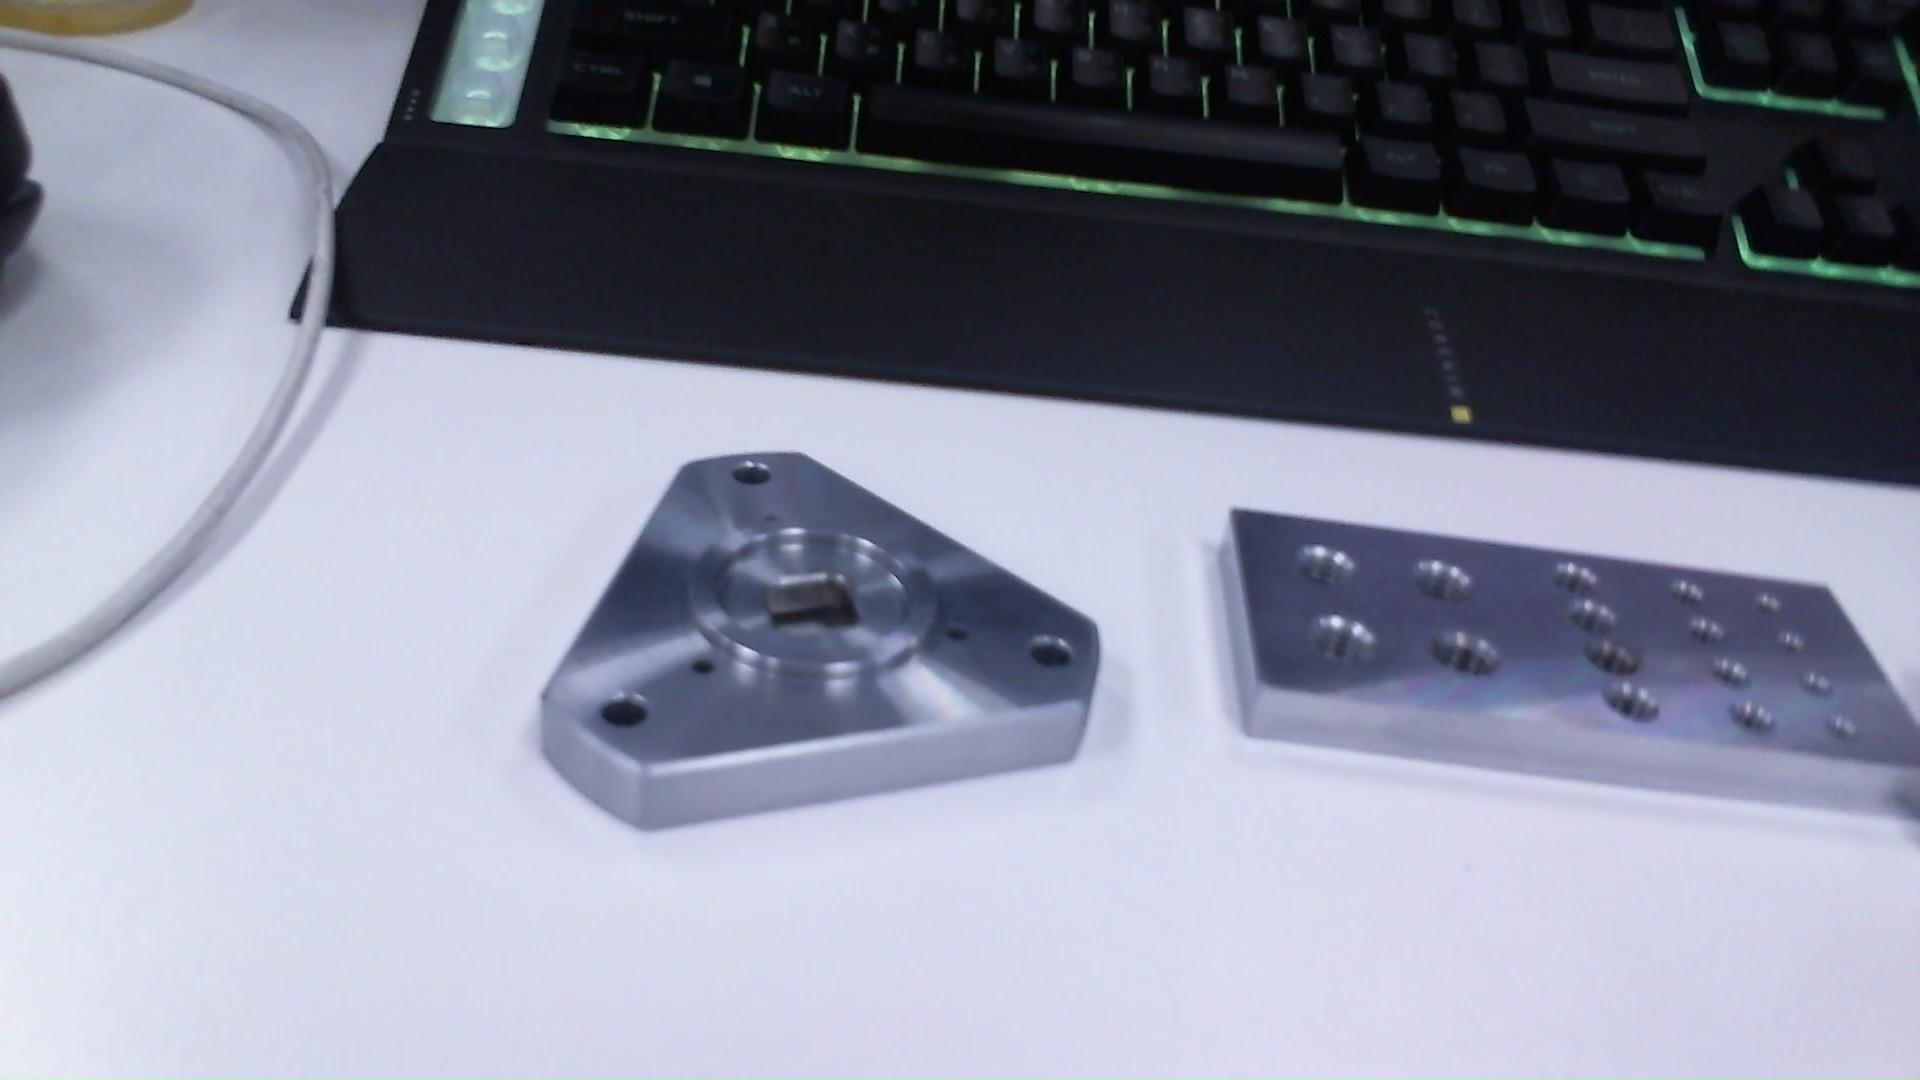hole: (1425, 618, 1509, 682), (1307, 611, 1379, 669), (1577, 633, 1655, 682), (1593, 679, 1667, 728), (593, 683, 654, 737), (1415, 551, 1478, 601), (1021, 626, 1083, 675), (1298, 531, 1352, 587), (1551, 553, 1611, 600), (1726, 690, 1776, 737), (1705, 650, 1763, 690), (1564, 604, 1629, 638), (1816, 708, 1866, 749), (729, 456, 777, 498), (1665, 571, 1718, 608), (1683, 608, 1733, 646), (1793, 659, 1838, 698), (1767, 624, 1817, 657), (1749, 583, 1793, 613), (943, 617, 981, 651), (678, 650, 720, 678)
